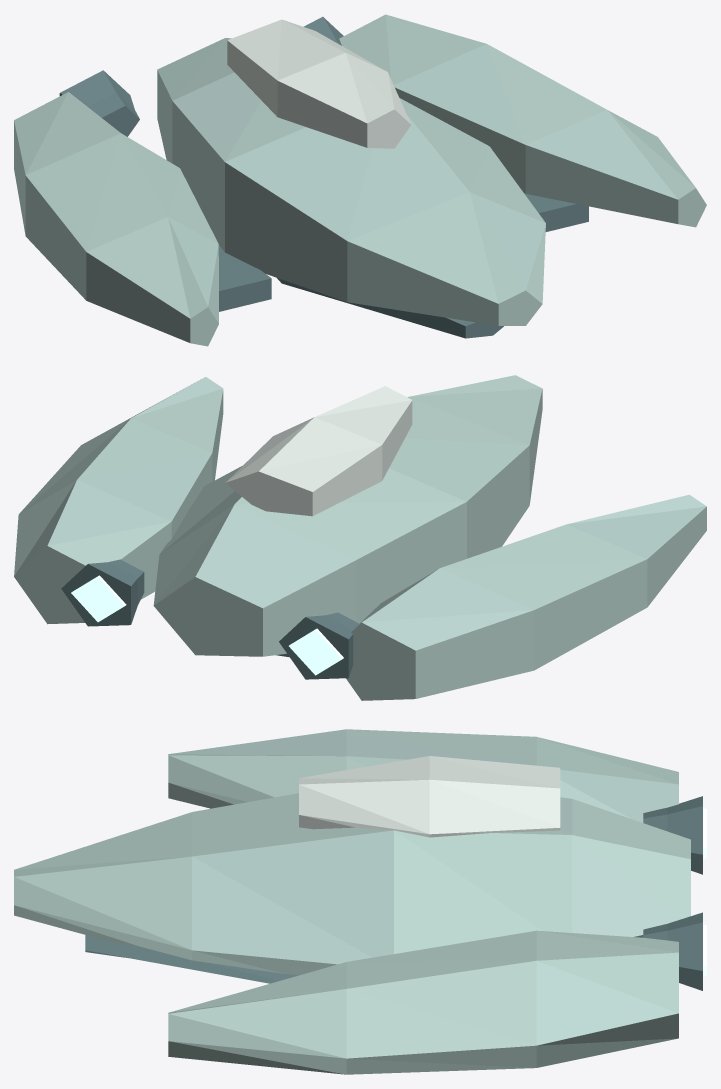
3 renders of one model, top to bottom at view 1: azimuth 30°, elevation 25°; view 2: azimuth 150°, elevation 25°; view 3: azimuth 270°, elevation 25°, orthographic. The views are drawn at different scales.
Size of the model in its own units: 9.31 by 2.98 by 9.
